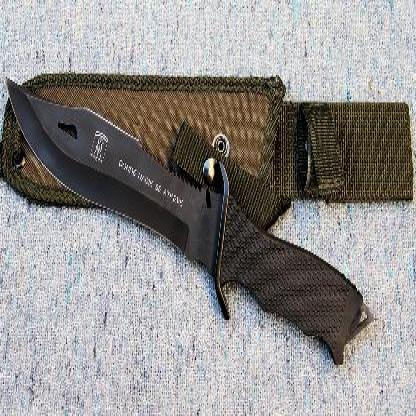knife: (0, 68, 205, 278)
